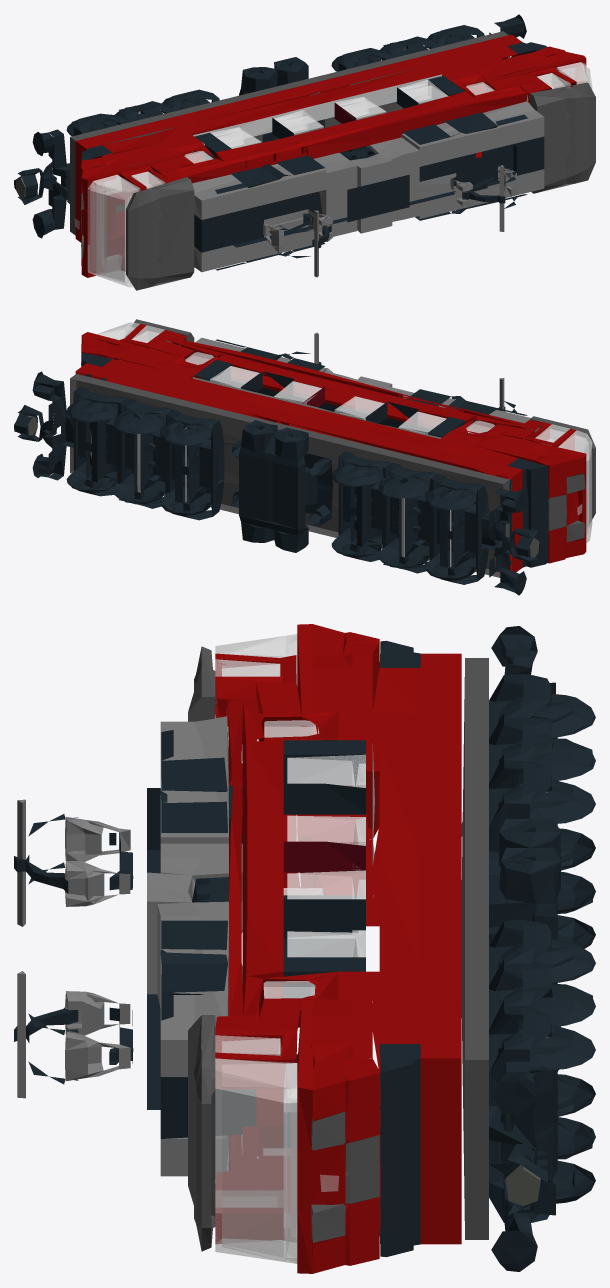
File: diesel-electric-german-locomotive.glb
The picture shows the model from 3 angles, top to bottom: view 1: azimuth 30°, elevation 25°; view 2: azimuth 150°, elevation 25°; view 3: azimuth 270°, elevation 25°; orthographic projection. The views are drawn at different scales.
Bounding box in the file's own units: 264 × 54.4 × 136.
